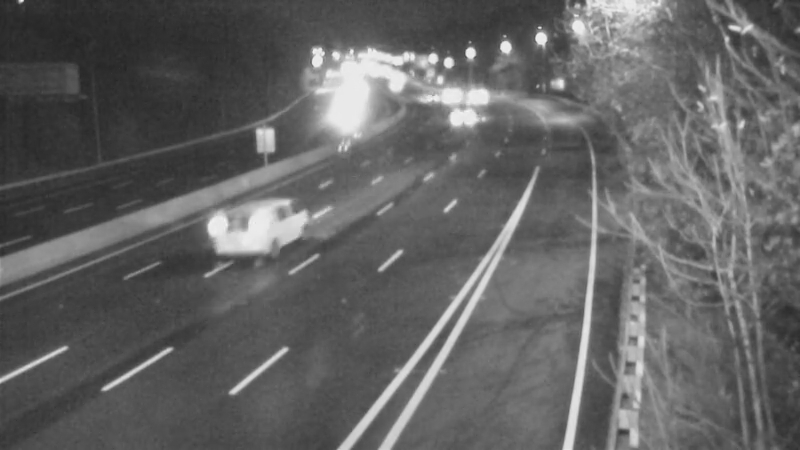vehicle: (201, 201, 281, 281), (368, 61, 418, 111), (436, 67, 486, 117), (402, 76, 452, 126), (453, 75, 503, 125), (431, 97, 481, 147)
